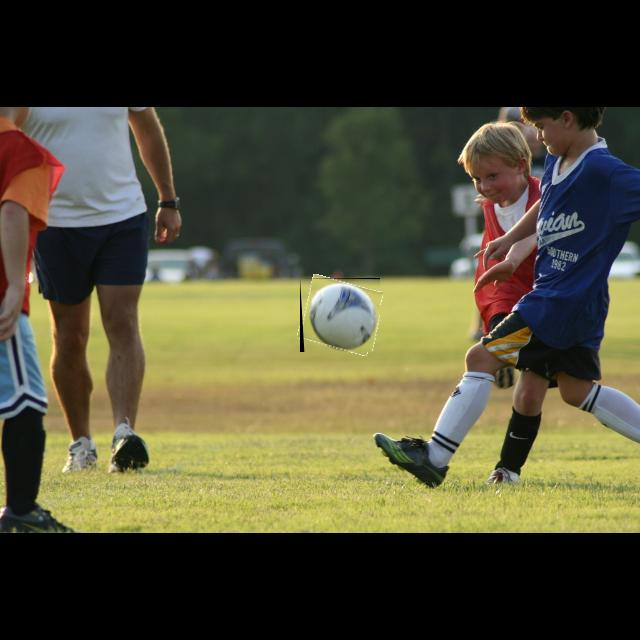Football: (300, 278, 380, 352)
